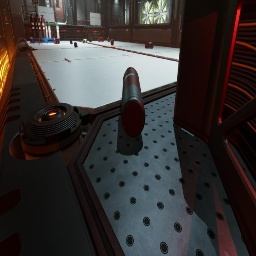0: (56, 20, 60, 38), (48, 20, 52, 38), (45, 20, 48, 38), (82, 39, 87, 43), (0, 35, 4, 38), (49, 22, 53, 23)
EmergencyPhone ,: (2, 7, 7, 14), (68, 0, 70, 6), (4, 10, 6, 11), (69, 2, 70, 3)
FireAlarm ,: (5, 16, 8, 21), (131, 13, 132, 17), (71, 6, 72, 10)
FireExtinguisher ]: (74, 42, 78, 47), (89, 37, 92, 42), (70, 40, 73, 44)
FirstAidBox ,: (145, 42, 153, 49), (53, 36, 59, 44), (98, 38, 104, 42), (46, 22, 49, 23)
NitrogenTank ,: (121, 67, 145, 138), (30, 13, 36, 39), (36, 14, 42, 39), (41, 15, 47, 38), (34, 15, 39, 38), (111, 39, 114, 45), (107, 37, 110, 42)
SafetySwitchPanel ,: (179, 15, 182, 32), (45, 0, 50, 7)
